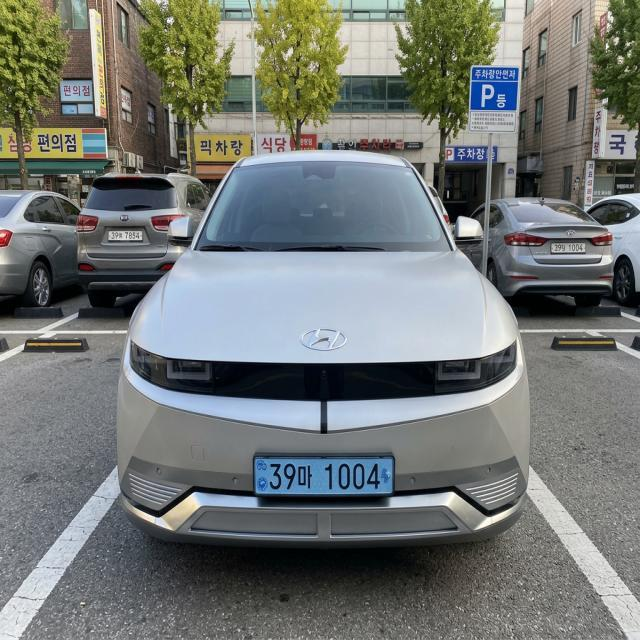car: (231, 440, 420, 517)
carev: (381, 454, 397, 501), (254, 454, 269, 503)
